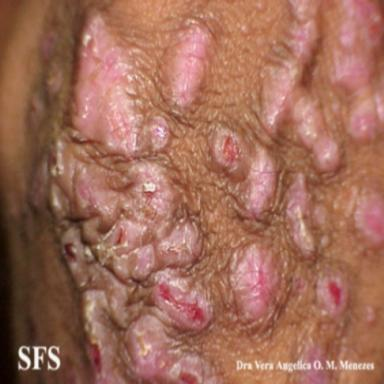Epidermolysis-Bullosa-Pruriginosa: (48, 17, 215, 382), (261, 2, 339, 172), (331, 1, 384, 141), (209, 126, 281, 219), (159, 20, 214, 109), (229, 242, 281, 322), (286, 172, 316, 258), (317, 269, 348, 320), (355, 193, 384, 247)
